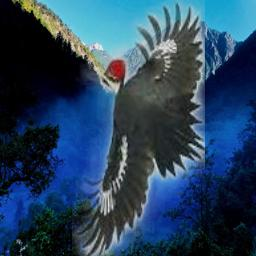Sparrow: (161, 100, 180, 125)
Woodpecker: (72, 0, 205, 256)
